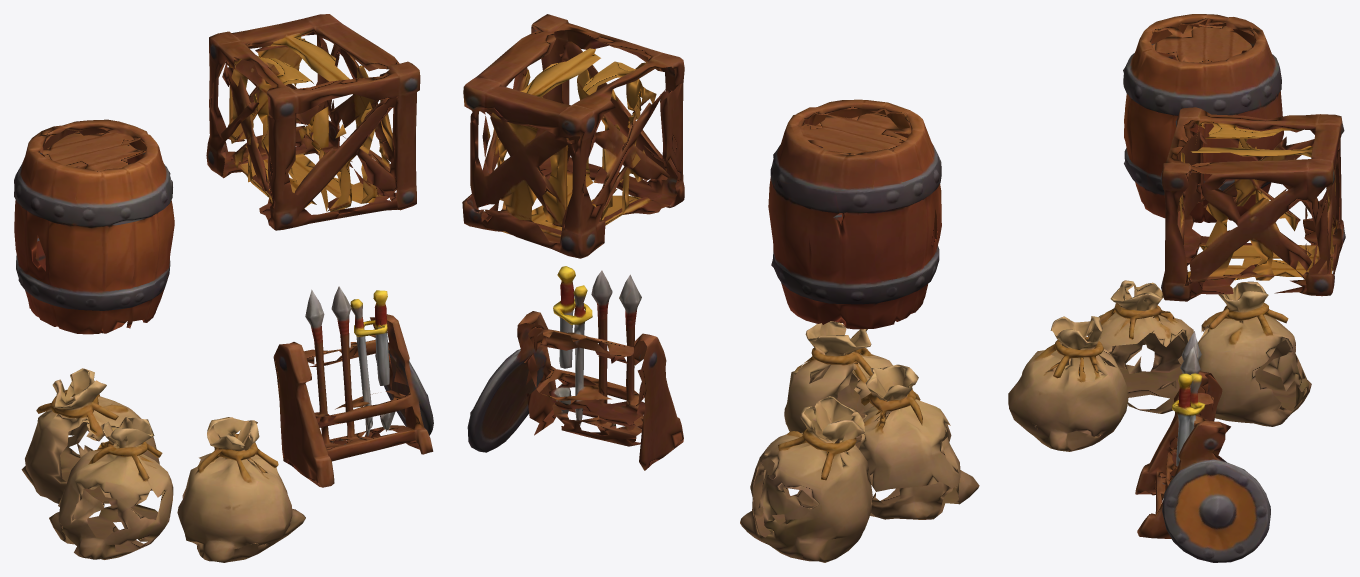
The picture shows the model from 3 angles, left to right: view 1: azimuth 30°, elevation 25°; view 2: azimuth 150°, elevation 25°; view 3: azimuth 270°, elevation 25°; orthographic projection. The views are drawn at different scales.
Parts seen in each view (by area): view 1: world; view 2: world; view 3: world.
Boxes of the visible parts, <box> form: world: <box>14,14,433,562</box>; world: <box>462,14,979,562</box>; world: <box>1008,14,1345,562</box>.
Bounding box in the file's own units: 0.9967 × 0.9165 × 0.7353.
1 material, 1 textured.
